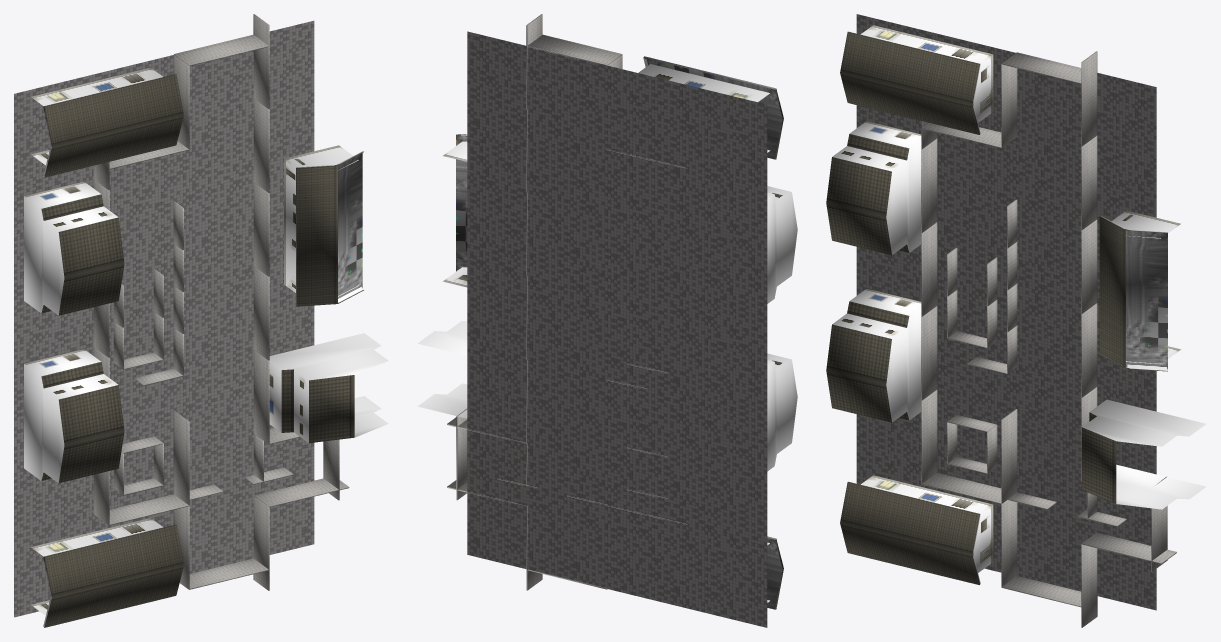
Rendered from stage-1-2.fbx.
The picture shows the model from 3 angles, left to right: view 1: azimuth 30°, elevation 25°; view 2: azimuth 150°, elevation 25°; view 3: azimuth 330°, elevation 25°; orthographic projection.
Visible parts, largest first — view 1: Ground; view 2: Ground; view 3: Ground.
Part boxes in pixels (x1,y1,x2,y2): Ground: (14,14,388,627); Ground: (417,14,797,627); Ground: (826,14,1206,627).
Size of the model in its own units: 35 by 54 by 7.05.
